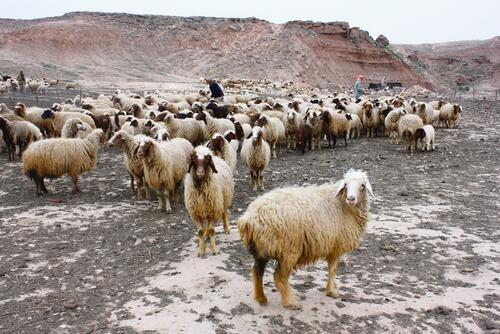sheep: (239, 169, 375, 310), (22, 128, 106, 197), (184, 145, 235, 258), (133, 137, 195, 214), (109, 130, 148, 196), (240, 125, 271, 191), (0, 116, 43, 162), (154, 110, 207, 146), (204, 133, 237, 177), (255, 114, 285, 159), (41, 109, 96, 133), (195, 110, 236, 141), (320, 110, 348, 150), (398, 114, 423, 156), (281, 109, 305, 150), (384, 107, 409, 145), (305, 110, 322, 151), (361, 102, 380, 138), (440, 104, 461, 130), (416, 124, 436, 151), (345, 113, 363, 140), (206, 103, 233, 118)
